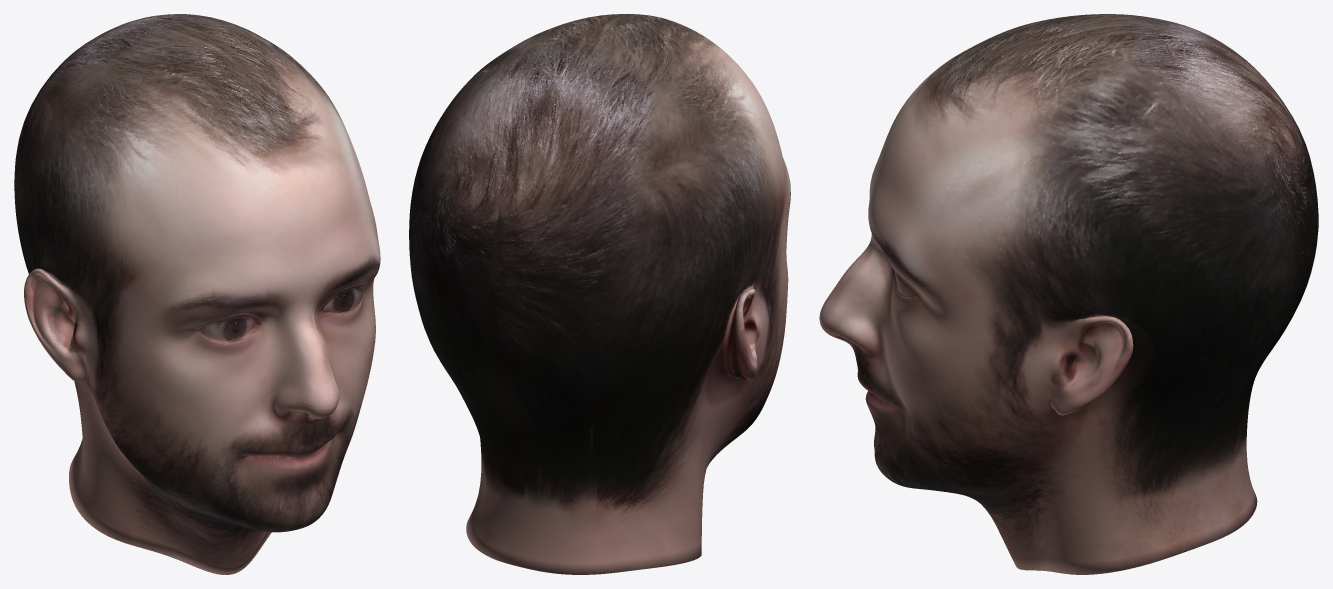
The model's file is thisistheone.glb.
The picture shows the model from 3 angles, left to right: view 1: azimuth 30°, elevation 25°; view 2: azimuth 150°, elevation 25°; view 3: azimuth 270°, elevation 25°; orthographic projection. The views are drawn at different scales.
Visible parts, largest first — view 1: FaceBuilderHead; view 2: FaceBuilderHead; view 3: FaceBuilderHead.
Part boxes in pixels (x1,y1,x2,y2): FaceBuilderHead: [14, 14, 380, 574]; FaceBuilderHead: [409, 14, 790, 574]; FaceBuilderHead: [819, 14, 1318, 574].
Bounding box in the file's own units: 1.51 × 2.41 × 2.04.
2 materials, 1 textured.
